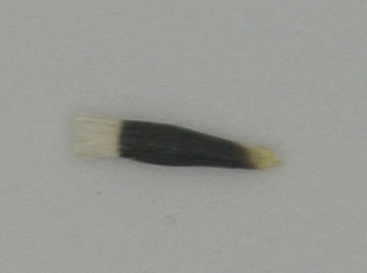เมล็ดดีติดกัน: (68, 112, 283, 172)
